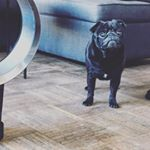puppy: (80, 16, 131, 116)
